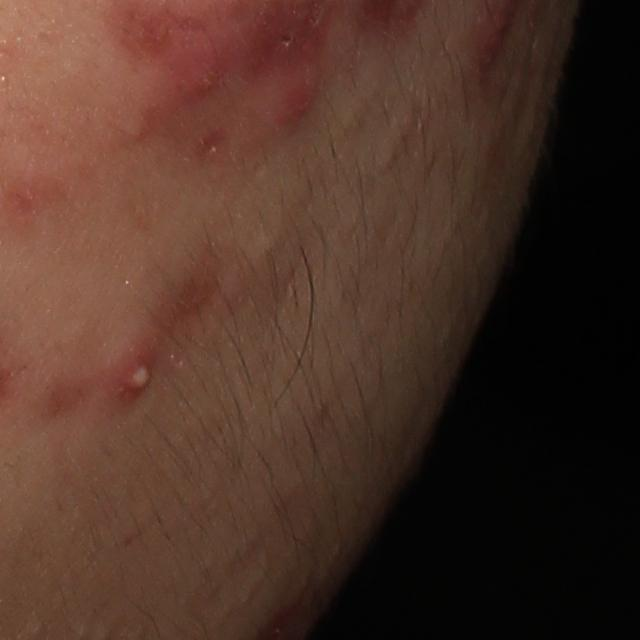papule: (171, 49, 226, 104), (268, 80, 317, 133)
pustule: (106, 341, 163, 406)
